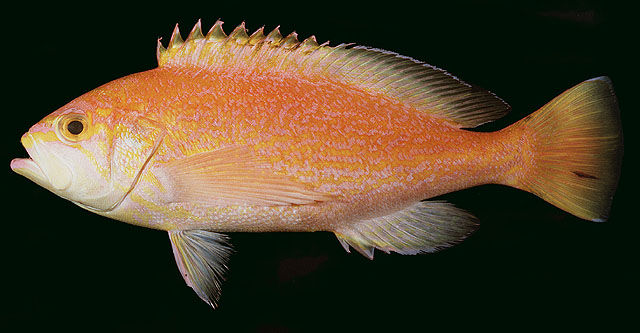fish: (10, 19, 620, 312)
